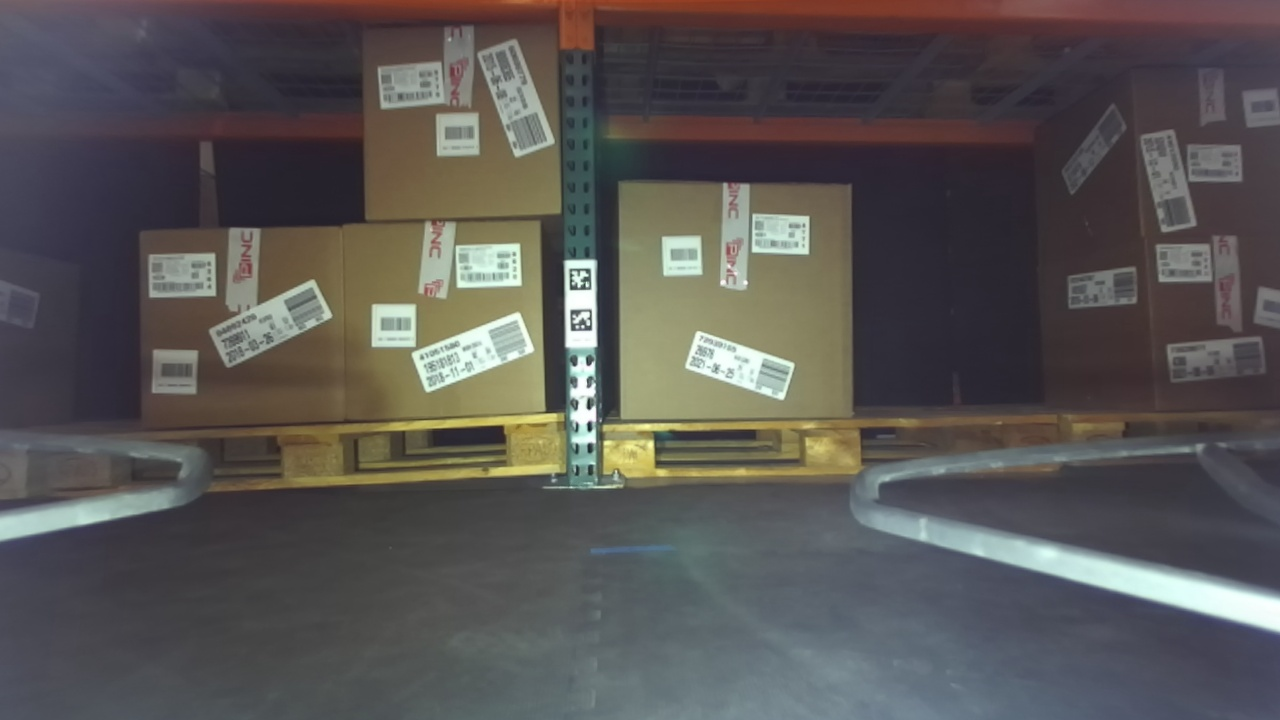box: (597, 159, 882, 445), (322, 199, 582, 441), (115, 201, 357, 450), (342, 9, 577, 238), (1100, 217, 1280, 419), (1112, 51, 1277, 258)
